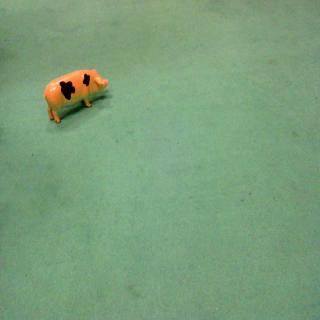pig: (40, 67, 112, 126)
